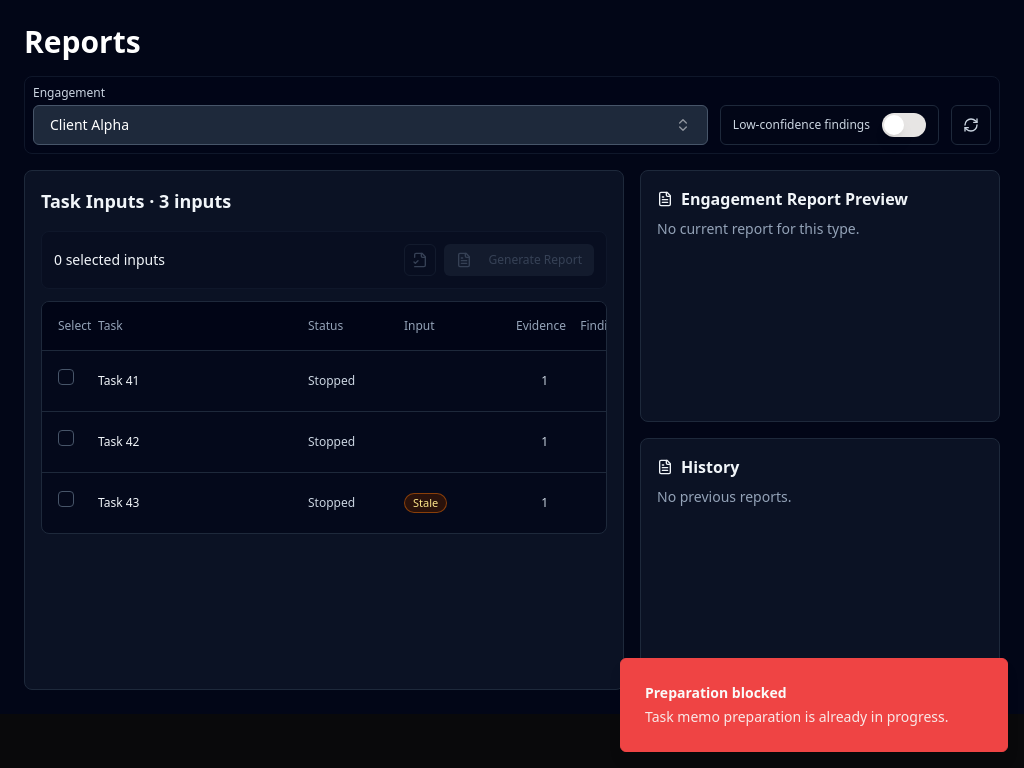
Test case: <EngagementReportingWorkspace /> › generates from selected current memo IDs with candidate findings excluded by default and starts job polling
The image size is (1024, 768).
expect the switch named "Include low-confidence candidate findings" is shown: met, box [882,113,926,137]
expect the text "Task 41" is shown: met, box [98,372,140,388]
Click the checkbox named "Select Task 41" at (66, 377), box [58,369,74,385]
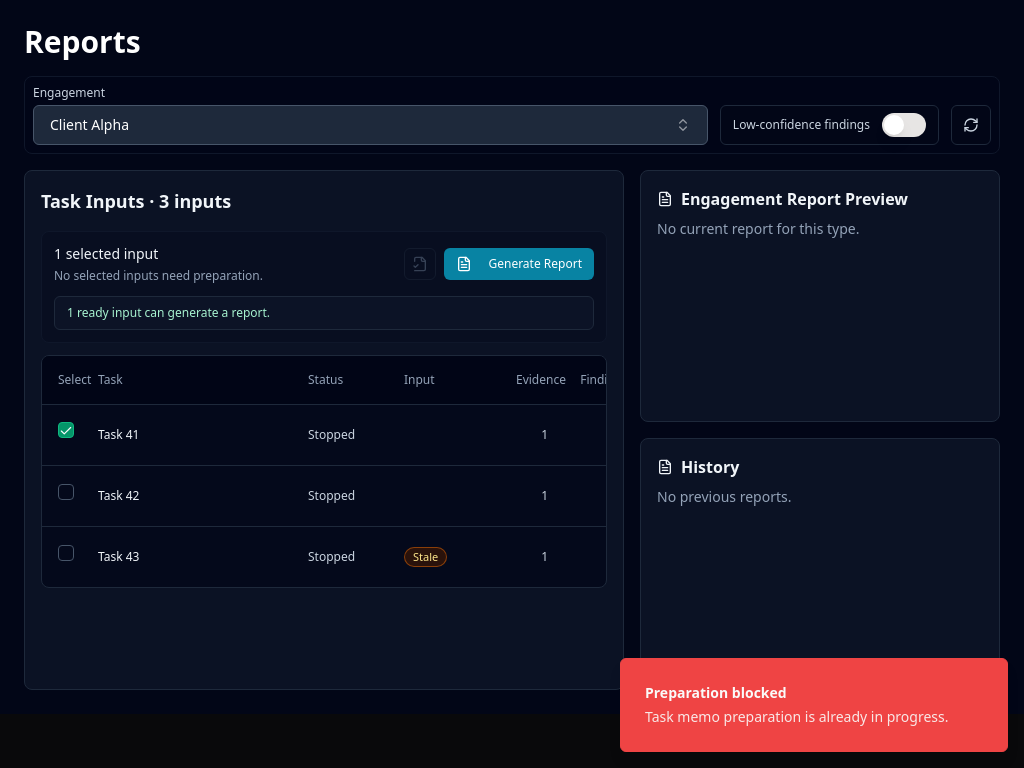
Click the checkbox named "Select Task 42" at (66, 492), box [58,484,74,500]
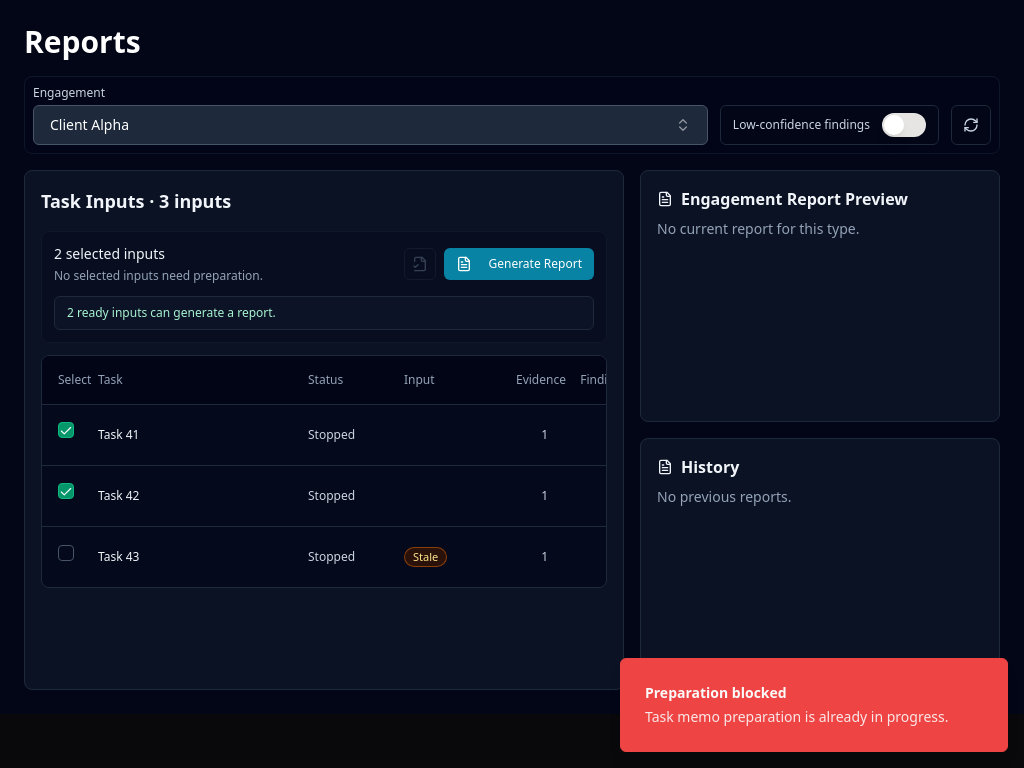
Click the button "Generate Report" at (519, 264), box [444,248,594,280]
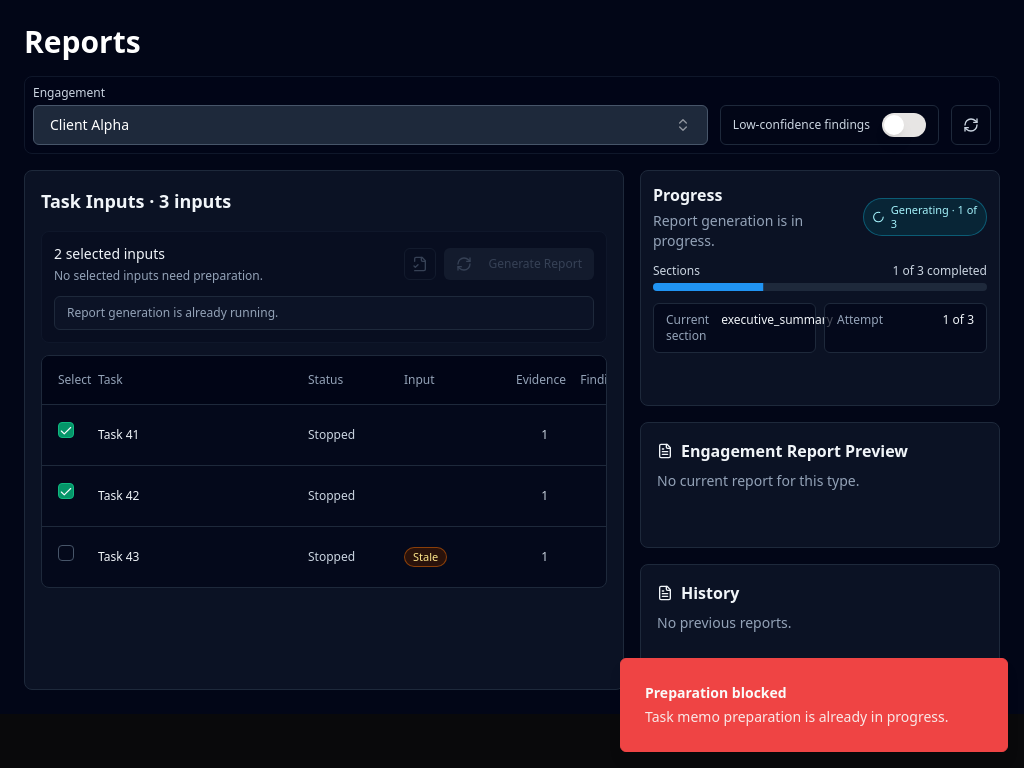
expect the text "Report generation is in progress." is shown: met, box [653,211,803,250]
expect the text "executive_summary" is shown: met, box [721,312,833,328]
expect the text "1 of 3 completed" is shown: met, box [892,263,987,279]
